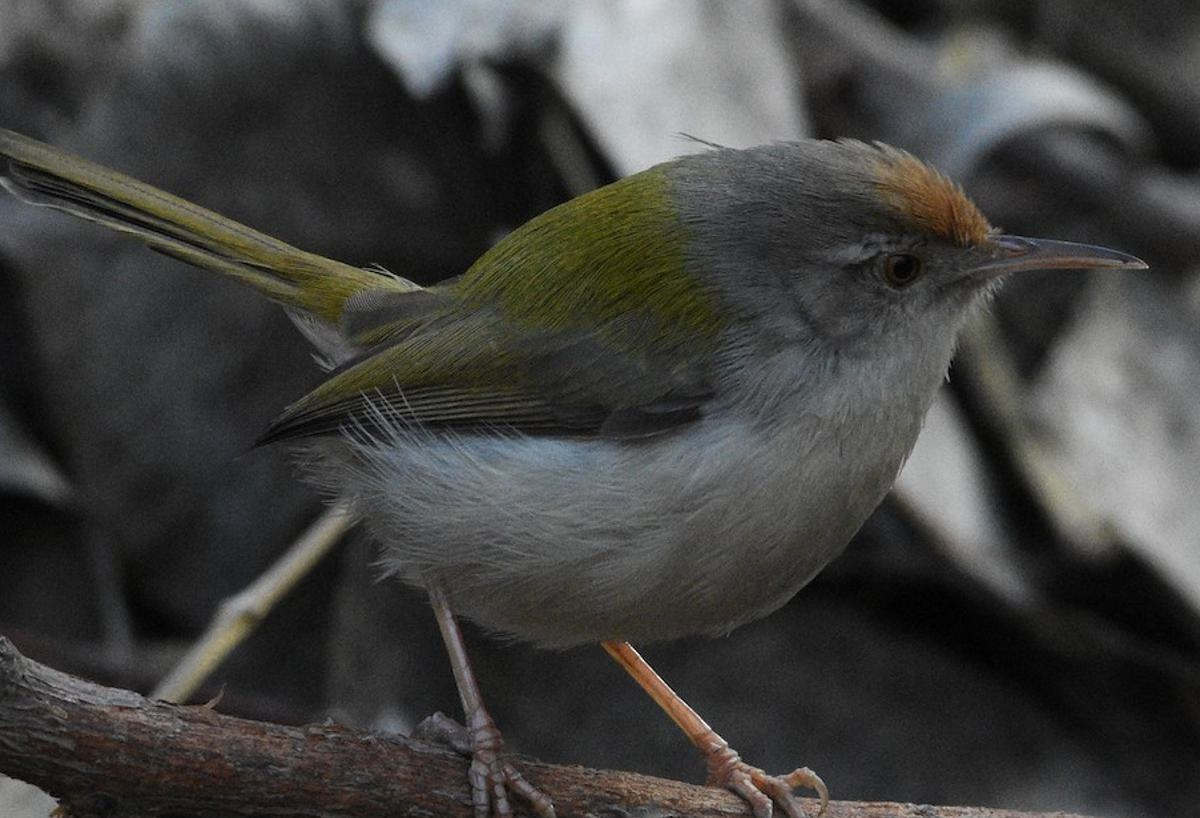tailorbird: (1, 113, 1166, 707)
